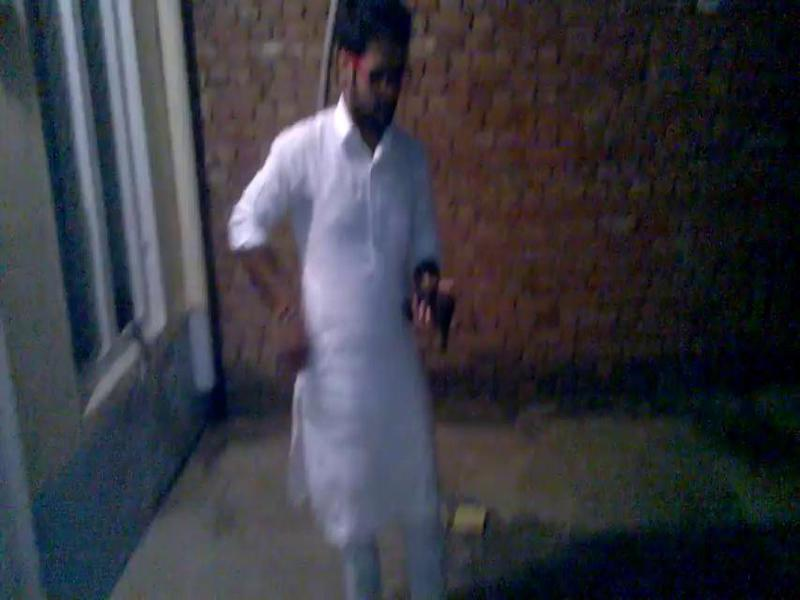Revolver: (408, 276, 468, 361)
